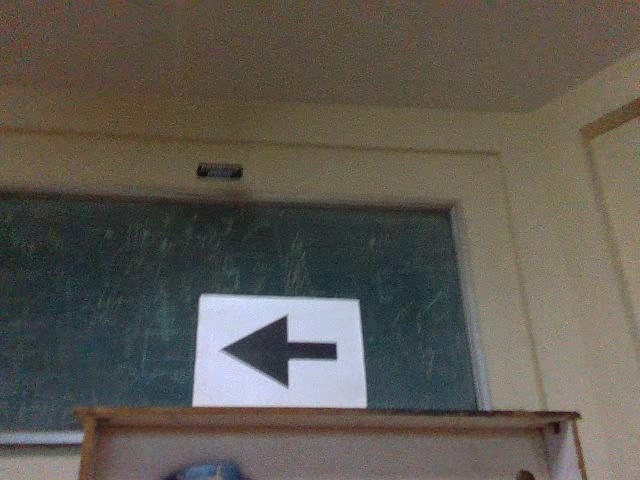Left: (218, 314, 342, 389)
